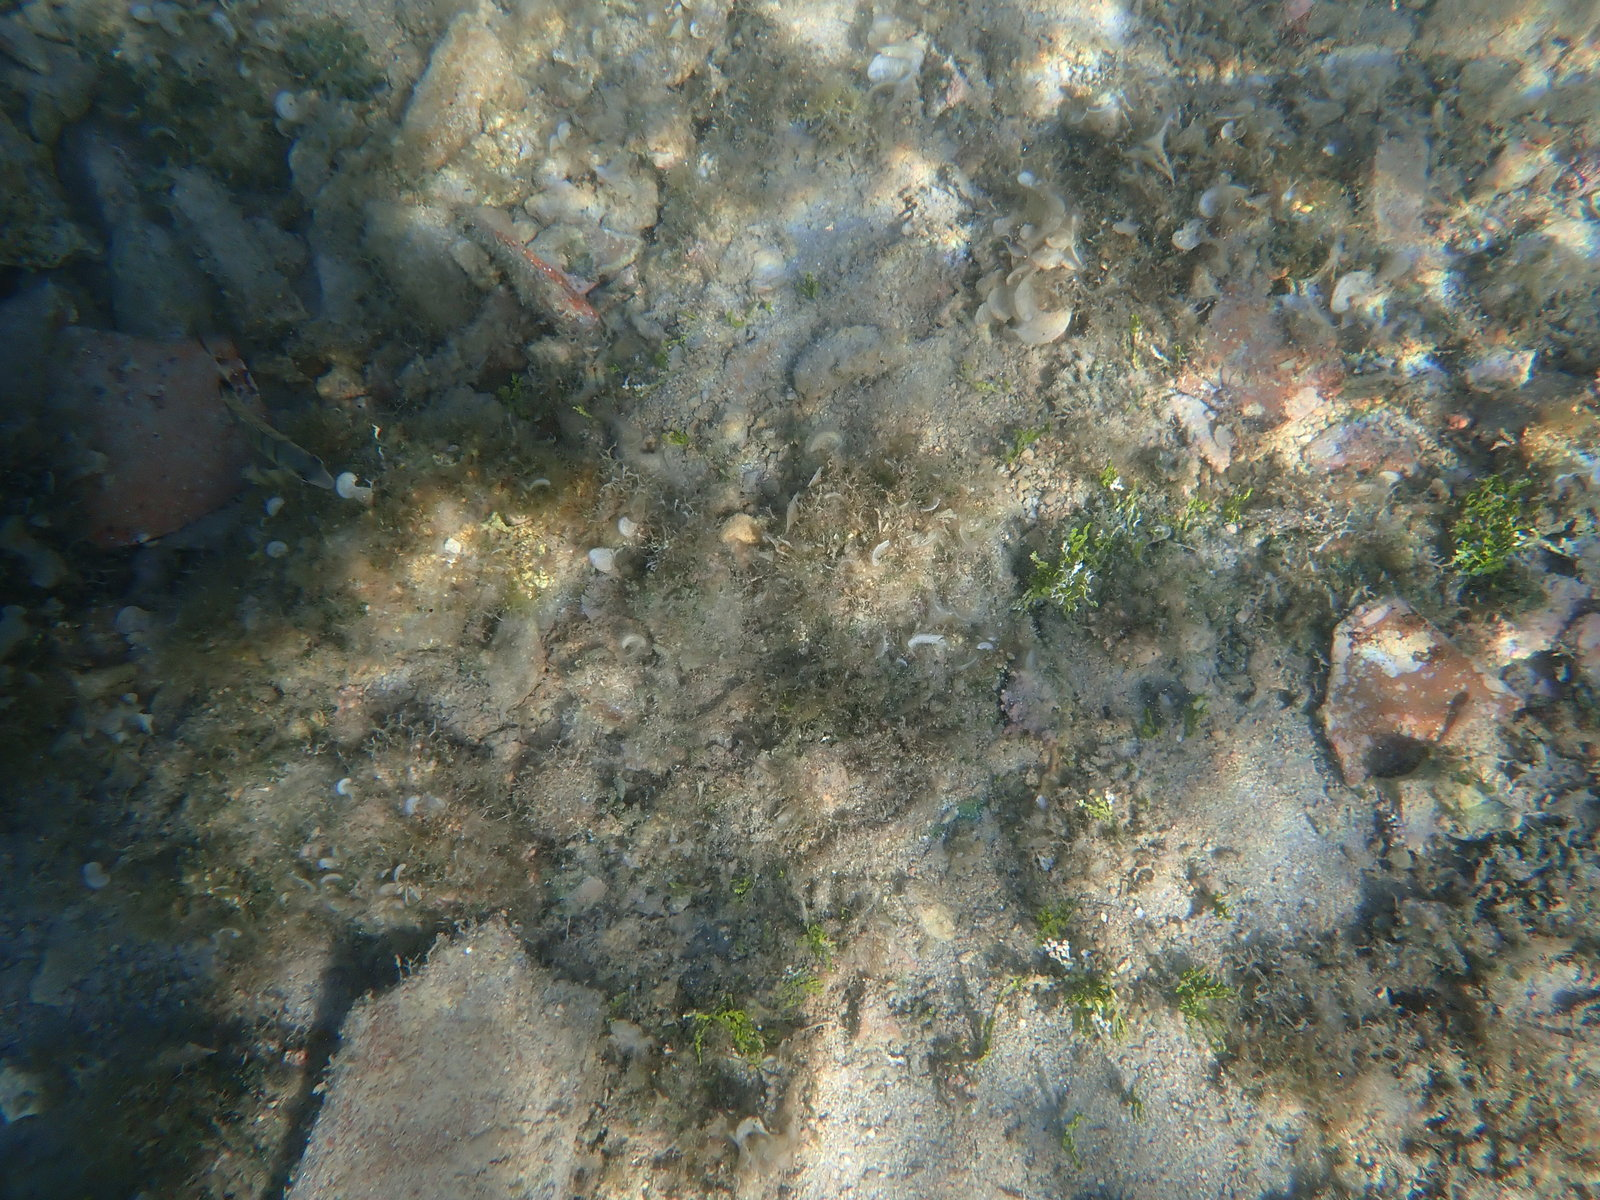halimeda: (1440, 469, 1540, 579), (682, 1002, 769, 1071), (1173, 969, 1241, 1040), (1073, 964, 1124, 1044), (1065, 523, 1107, 616), (1013, 552, 1065, 615), (1099, 465, 1141, 541), (1154, 494, 1214, 529), (973, 988, 999, 1068), (777, 971, 826, 1012), (957, 362, 1014, 396), (1034, 903, 1075, 948), (1008, 424, 1049, 459), (1078, 795, 1117, 829), (803, 924, 833, 962), (1223, 487, 1250, 529), (1066, 1111, 1083, 1163), (1191, 691, 1208, 741), (1212, 891, 1233, 923), (1144, 706, 1162, 741), (1128, 313, 1139, 364), (661, 429, 692, 447), (1121, 1092, 1146, 1114), (803, 274, 820, 301), (569, 405, 593, 420), (734, 875, 752, 895), (727, 311, 748, 326), (659, 349, 670, 371), (682, 310, 698, 323), (922, 1001, 934, 1017), (664, 338, 687, 345), (763, 301, 775, 314), (746, 301, 758, 310), (609, 364, 620, 372), (1175, 342, 1180, 350)
